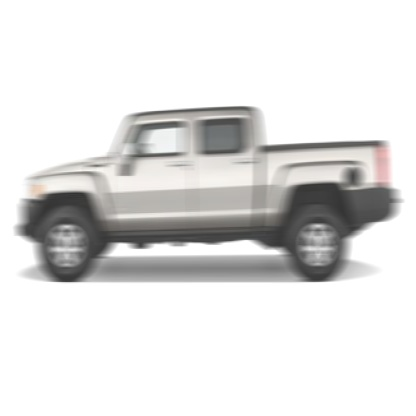Vehicle: (20, 106, 400, 283)
